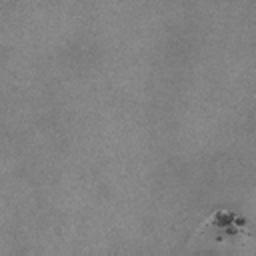Iron sheet ash: (210, 211, 247, 236)
